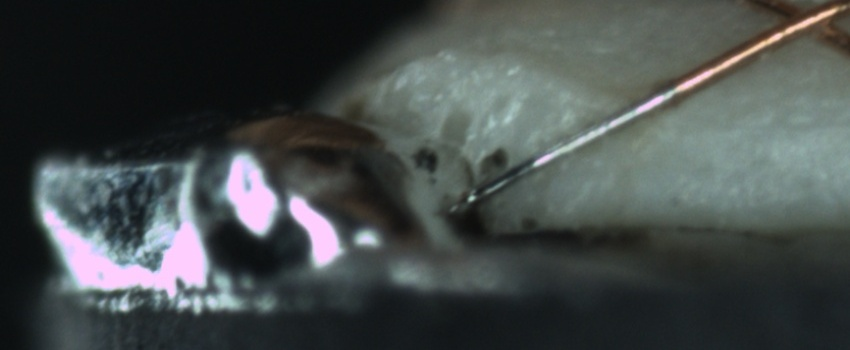CL: (750, 1, 847, 55)
DL: (668, 92, 850, 156)
TS: (450, 88, 674, 211)
